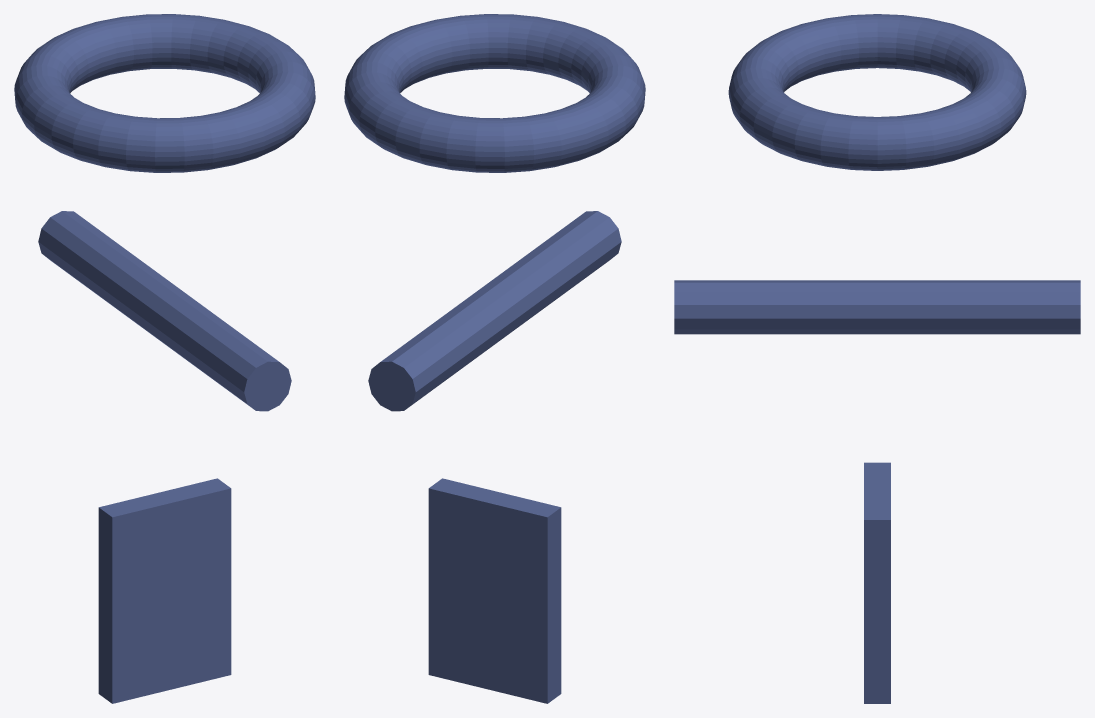
File: navy_lanyard_ma_na.glb
3 views of the same model, side by side, from view 1: azimuth 30°, elevation 25°; view 2: azimuth 150°, elevation 25°; view 3: azimuth 270°, elevation 25° (orthographic).
Parts seen in each view (by area): view 1: lanyard_loop, lanyard_tag, lanyard_cord; view 2: lanyard_loop, lanyard_tag, lanyard_cord; view 3: lanyard_loop, lanyard_cord, lanyard_tag.
Boxes of the visible parts, x1=… form: lanyard_loop: x1=14, y1=14, x2=315, y2=172; lanyard_tag: x1=98, y1=478, x2=231, y2=703; lanyard_cord: x1=38, y1=211, x2=291, y2=411; lanyard_loop: x1=344, y1=14, x2=645, y2=172; lanyard_tag: x1=428, y1=478, x2=561, y2=703; lanyard_cord: x1=368, y1=211, x2=621, y2=411; lanyard_loop: x1=728, y1=14, x2=1026, y2=170; lanyard_cord: x1=674, y1=280, x2=1080, y2=334; lanyard_tag: x1=864, y1=462, x2=890, y2=703.
Size of the model in its own units: 0.044 by 0.099 by 0.06.
